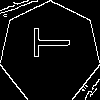T: (25, 27, 69, 58)
